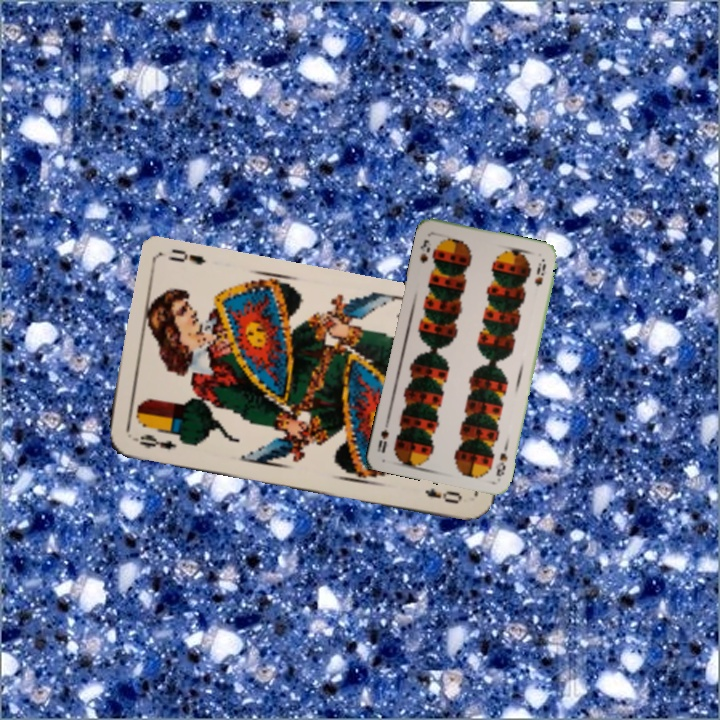EO: (128, 430, 179, 452)
S8: (491, 441, 510, 479), (416, 235, 433, 266)
